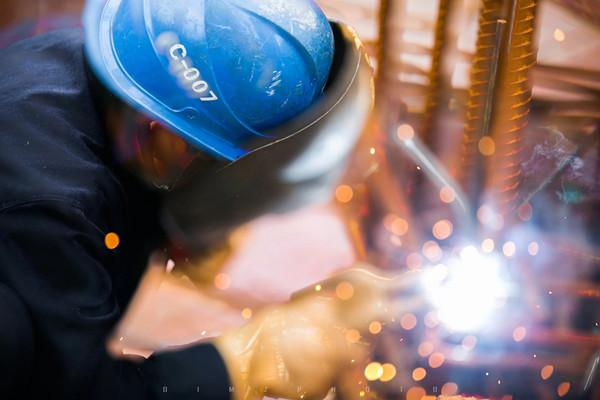helmet: (79, 1, 368, 164)
